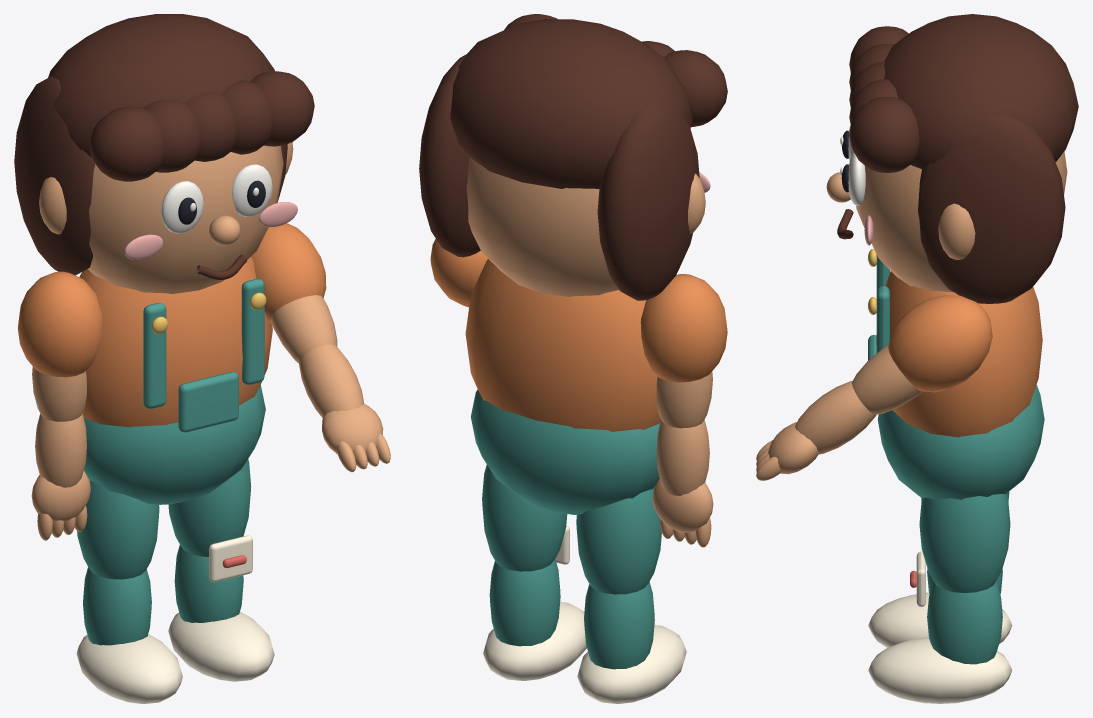
File: ava-need-hurt.glb
3 views of the same model, side by side, from view 1: azimuth 30°, elevation 25°; view 2: azimuth 150°, elevation 25°; view 3: azimuth 270°, elevation 25° (orthographic). The views are drawn at different scales.
Parts seen in each view (by area): view 1: soft shirt, hair cap, clay head, overalls, bob hair, shirt sleeve, trouser leg, little shoe.001, little shoe, shirt sleeve.001, fringe, trouser leg.001 (+22 smaller); view 2: hair cap, soft shirt, bob hair, overalls, clay head, shirt sleeve, trouser leg, bob hair.001, trouser leg.001, lower leg.001, lower leg, little shoe (+7 smaller); view 3: bob hair.001, hair cap, soft shirt, overalls, trouser leg.001, shirt sleeve.001, clay head, little shoe.001, lower leg.001, fringe.004, forearm.001, upper arm.001 (+10 smaller).
Boxes of the visible parts, box(x1,y1,x2,y2) form: soft shirt: box(79, 257, 272, 427); hair cap: box(48, 14, 274, 157); clay head: box(88, 145, 283, 293); overalls: box(84, 385, 265, 504); bob hair: box(14, 75, 95, 275); shirt sleeve: box(18, 271, 102, 377); trouser leg: box(77, 480, 159, 579); little shoe.001: box(168, 611, 274, 681); little shoe: box(76, 634, 182, 703); shirt sleeve.001: box(251, 223, 326, 322); fringe: box(89, 106, 163, 181); trouser leg.001: box(168, 459, 251, 556); hair cap: box(450, 19, 692, 188); soft shirt: box(465, 259, 660, 431); bob hair: box(597, 102, 699, 300); overalls: box(471, 389, 659, 514); clay head: box(466, 157, 618, 296); shirt sleeve: box(640, 274, 727, 382); trouser leg: box(576, 485, 661, 594); bob hair.001: box(419, 54, 480, 257); trouser leg.001: box(482, 464, 567, 571); lower leg.001: box(489, 559, 560, 646); lower leg: box(584, 582, 654, 669); little shoe: box(577, 625, 686, 703); bob hair.001: box(918, 114, 1065, 303); hair cap: box(884, 14, 1078, 169); soft shirt: box(876, 271, 1042, 437); overalls: box(877, 385, 1044, 499); trouser leg.001: box(919, 493, 1010, 592); shirt sleeve.001: box(888, 295, 992, 392); clay head: box(856, 151, 1067, 292); little shoe.001: box(868, 637, 1012, 703); lower leg.001: box(927, 581, 1002, 664); fringe.004: box(849, 96, 919, 172); forearm.001: box(795, 380, 876, 454); upper arm.001: box(852, 345, 922, 414).
Size of the model in its own units: 0.87 by 1.87 by 0.8504.
